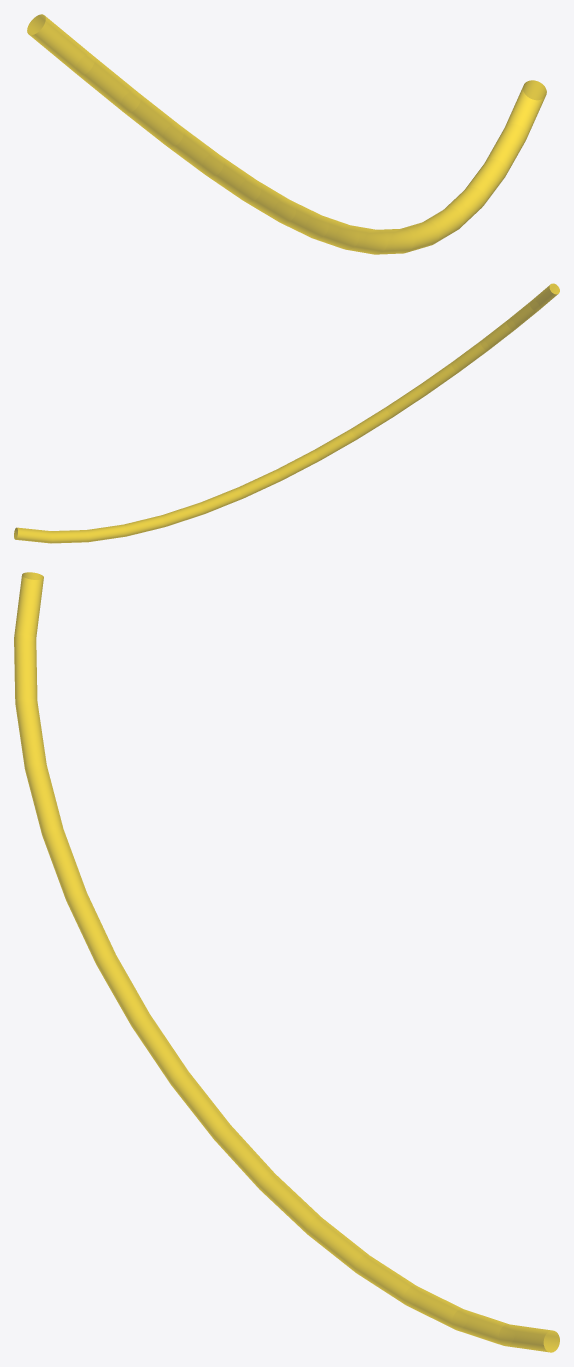
Rendered from Event_419990632_track_62.fbx.
3 views of the same model, one above another, from view 1: azimuth 30°, elevation 25°; view 2: azimuth 150°, elevation 25°; view 3: azimuth 270°, elevation 25° (orthographic). The views are drawn at different scales.
Parts seen in each view (by area): view 1: Model; view 2: Model; view 3: Model.
Boxes of the visible parts, left/top/right/bottom form: Model: left=27, top=14, right=546, bottom=254; Model: left=14, top=283, right=559, bottom=543; Model: left=14, top=572, right=559, bottom=1352.
Bounding box in the file's own units: 1.49 × 0.9025 × 0.9791.
